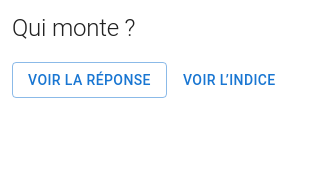
it: rendu par kind › révèle la réponse de la devinette sur demande
The image size is (332, 172).
Expected: the text "Un escalier" is not shown
Click the button "Voir la réponse" at (89, 80), box [12, 62, 167, 98]
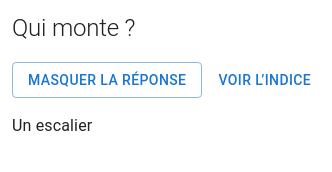
Now the button "Masquer la réponse" is expanded, box [12, 62, 202, 98]
Now the text "Un escalier" is shown, box [12, 116, 92, 135]
